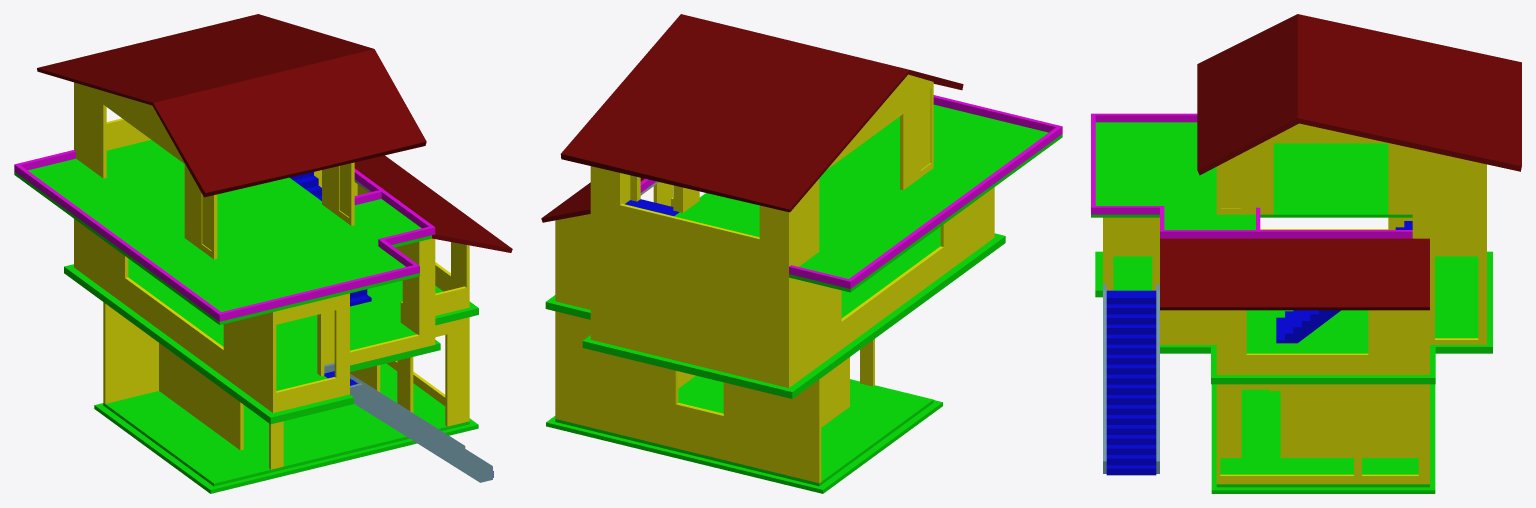
Rendered from fbx house 2.fbx.
The picture shows the model from 3 angles, left to right: view 1: azimuth 30°, elevation 25°; view 2: azimuth 150°, elevation 25°; view 3: azimuth 270°, elevation 25°; orthographic projection. The views are drawn at different scales.
Parts seen in each view (by area): view 1: pCube305; view 2: pCube305; view 3: pCube305.
Part boxes in pixels (left/top/right/bottom): pCube305: left=14, top=14, right=512, bottom=493; pCube305: left=541, top=14, right=1062, bottom=493; pCube305: left=1091, top=14, right=1521, bottom=493.
Bounding box in the file's own units: 25.73 × 27.01 × 30.29.
